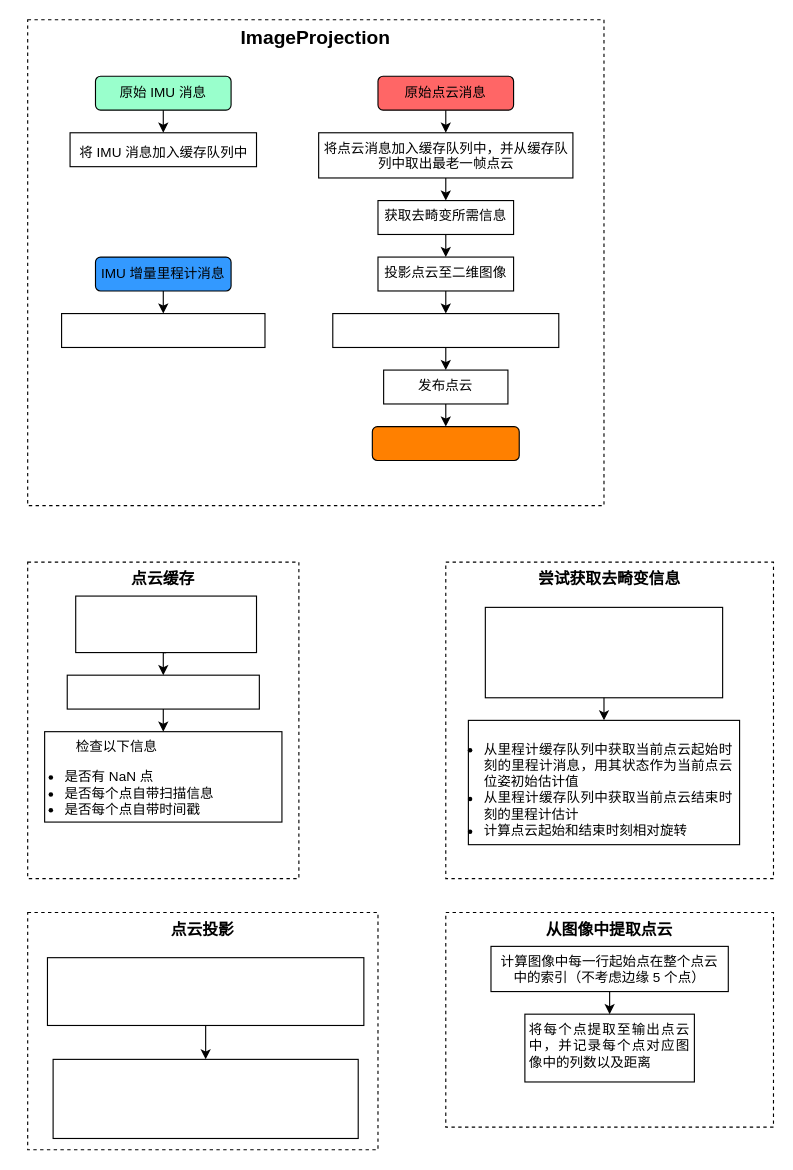
This 793x1170 diagram has some shape labels left out. The shapes that lost their labels are listed below. From the top down, each one's centre as x and y in pixels, then its label:
At pixel 162 329: "将里程计消息加入缓存队列中".
At pixel 445 329: "将图像中的非空点提取至输出点云中".
At pixel 445 442: "去畸变后的点云信息".
At pixel 166 624: "从缓存中取出一帧点云，转换 velodyne 和 ouster 点至统一格式".
At pixel 603 652: "从 IMU 缓存队列中获取覆盖整个点云持续时间的消息，用第一个消息作为起始姿态，利用角速度信息计算接下来所有信息相对于第一个消息的旋转角度".
At pixel 162 691: "获取当前点云起始和结束时间".
At pixel 205 991: "按每个点的所在线索引计算它在图像中的哪一行 按照每个点的水平角度计算它在图像中的哪一列".
At pixel 205 1098: "对每一个点去畸变： 找到覆盖该点时刻的 IMU 范围，利用线性插值从起始和结束时刻中计算相对点云起始时刻的旋转 假设平移为 0，转换该点坐标至起始时刻坐标系下".
